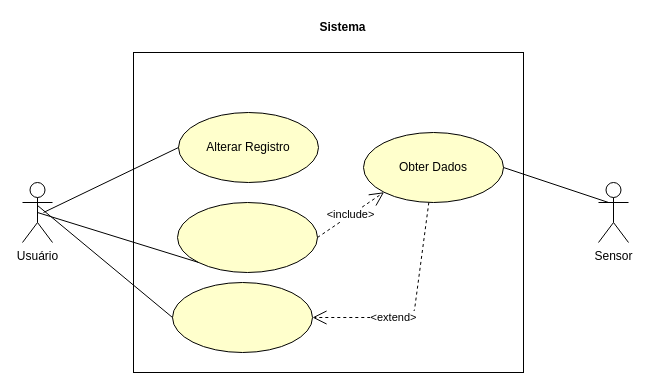
Some shapes in this 650 by 390 pixel diagram are drawn without their labels. The box of each missing label's shape, as (x1, y1, x2, y2) in pixels:
Notificar: (172, 282, 312, 352)
Requisitar Dados: (176, 202, 318, 272)
